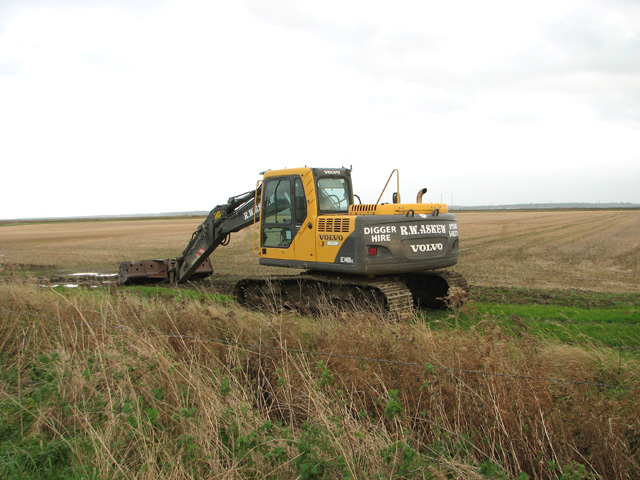excavator: (116, 166, 473, 321)
